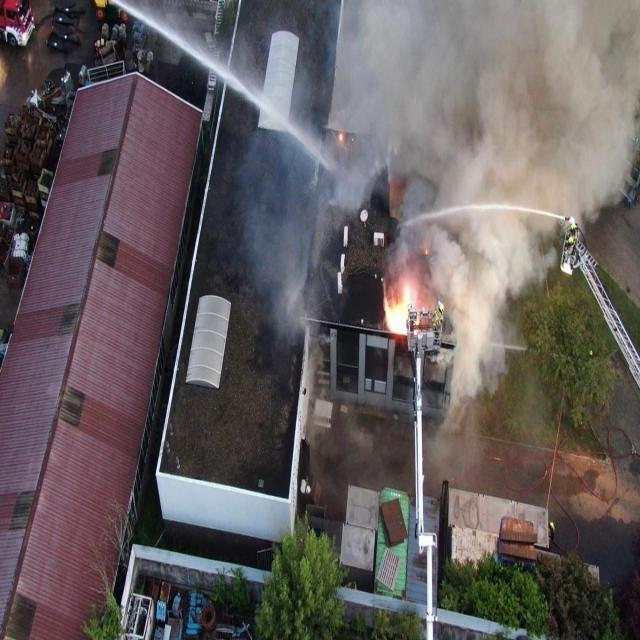Fire: (383, 286, 419, 336), (338, 133, 342, 140), (425, 250, 428, 254)
Smoke: (230, 0, 640, 493)
